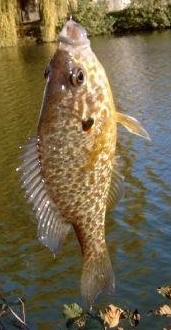Lepomis gibbosus: (20, 20, 151, 310)
